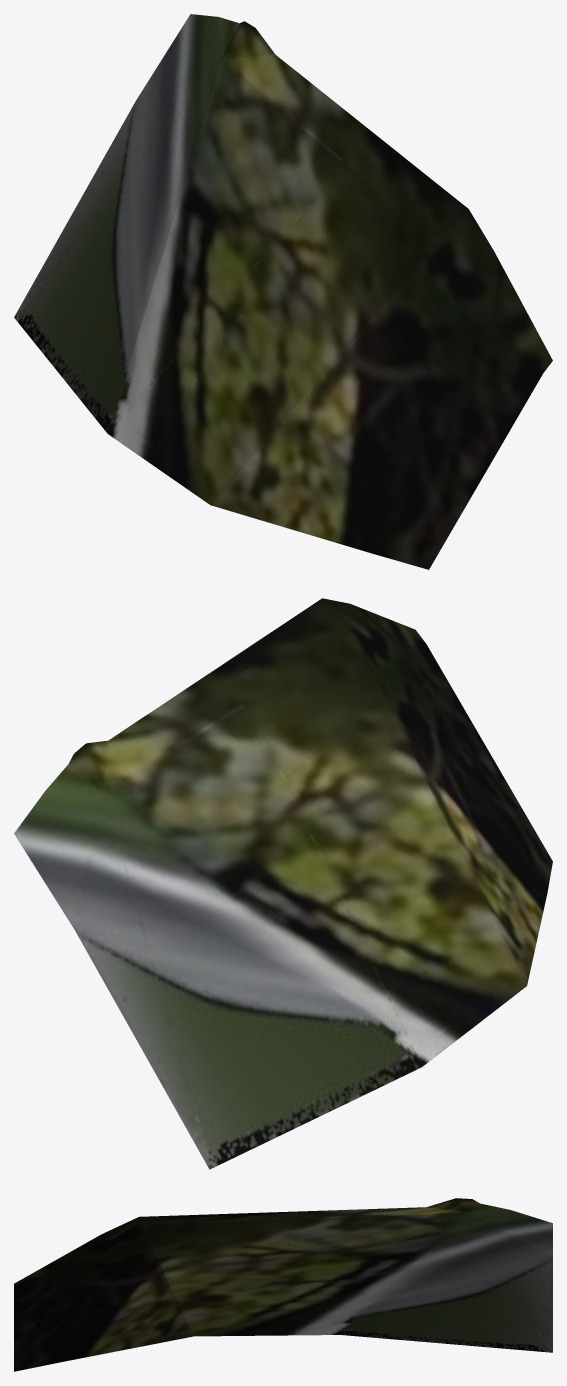
The picture shows the model from 3 angles, top to bottom: view 1: azimuth 30°, elevation 25°; view 2: azimuth 150°, elevation 25°; view 3: azimuth 270°, elevation 25°; orthographic projection. The views are drawn at different scales.
Bounding box in the file's own units: 0.6019 × 0.7498 × 1.67.
1 material, 1 textured.
